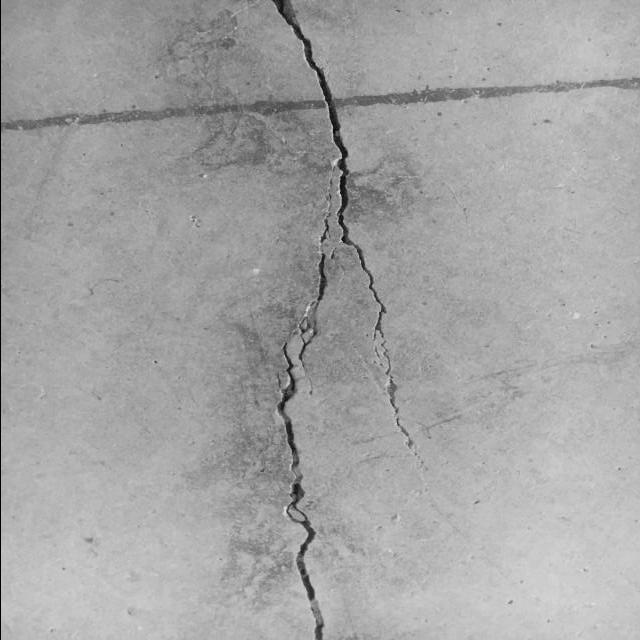SurfaceCrack: (249, 2, 431, 640)
